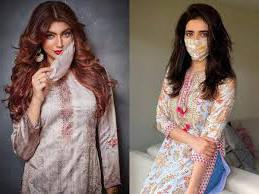mask_weared_incorrect: (47, 27, 71, 60)
with_mask: (185, 25, 207, 50)
